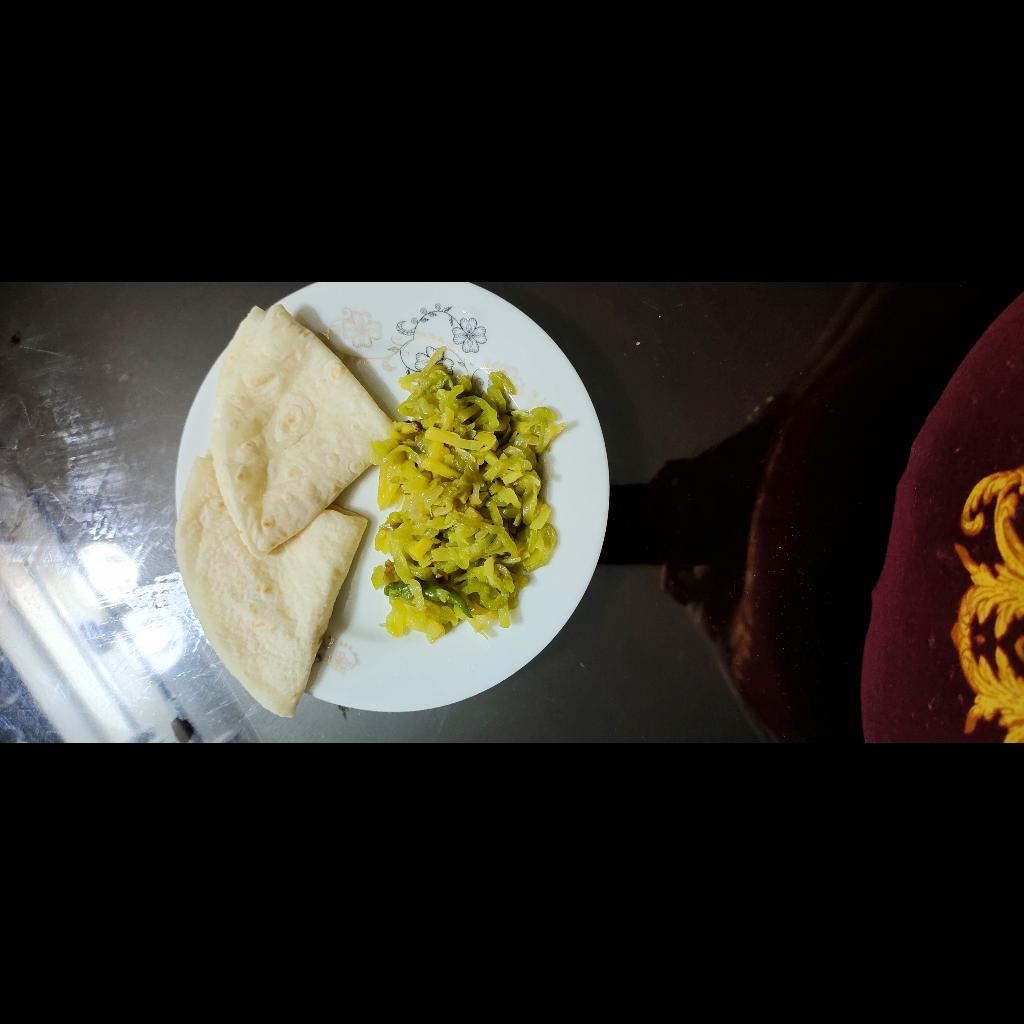chichinga-vaji: (96, 651, 401, 849)
ruti: (20, 458, 440, 676)
